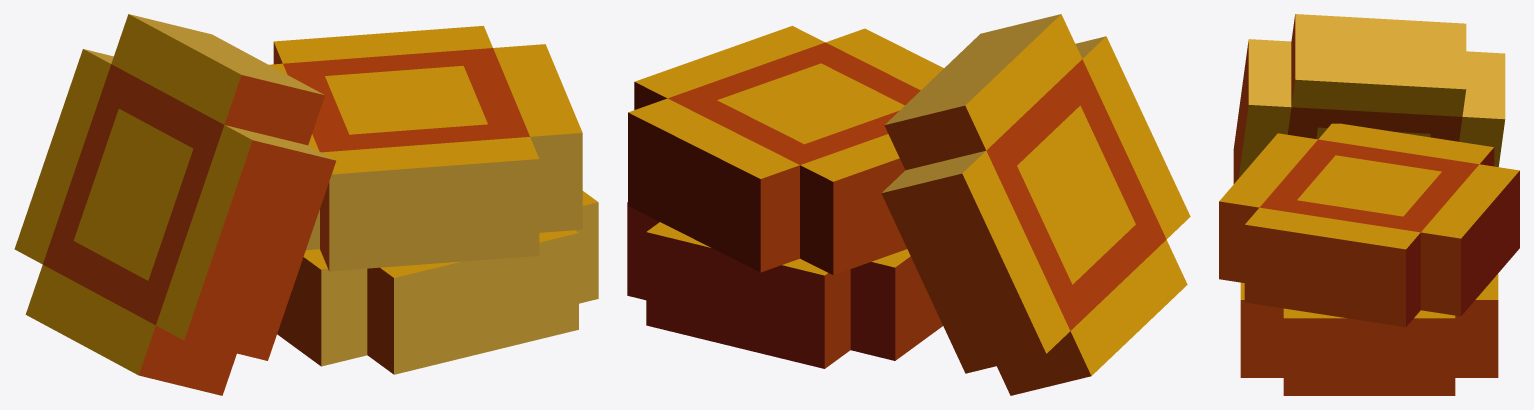
The model's file is CoinPile_Small.fbx.
3 renders of one model, left to right at view 1: azimuth 30°, elevation 25°; view 2: azimuth 150°, elevation 25°; view 3: azimuth 270°, elevation 25°, orthographic. The views are drawn at different scales.
Parts seen in each view (by area): view 1: CoinPile_Small; view 2: CoinPile_Small; view 3: CoinPile_Small.
Part boxes in pixels (x1,y1,x2,y2): CoinPile_Small: (14, 14, 598, 395); CoinPile_Small: (627, 14, 1190, 395); CoinPile_Small: (1219, 14, 1519, 395).
Bounding box in the file's own units: 107 × 65.78 × 70.06.
